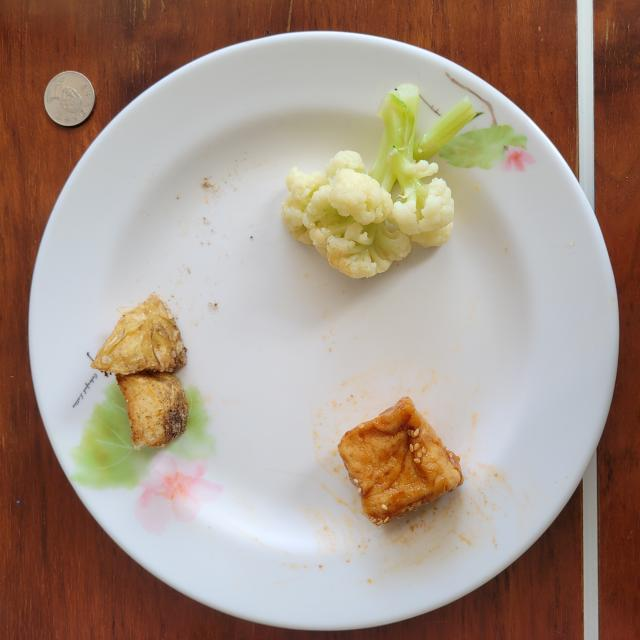coin: (44, 71, 95, 126)
creamy tofu: (338, 398, 462, 525)
fried potato: (91, 294, 189, 450)
